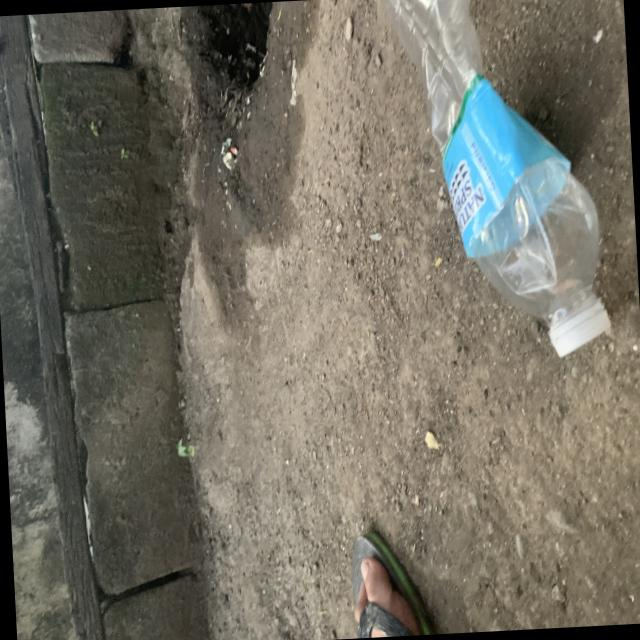Bottle: (382, 0, 610, 357)
